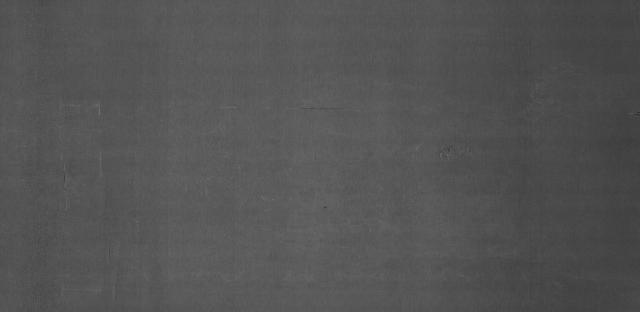silk_spot: (434, 52, 587, 185)
